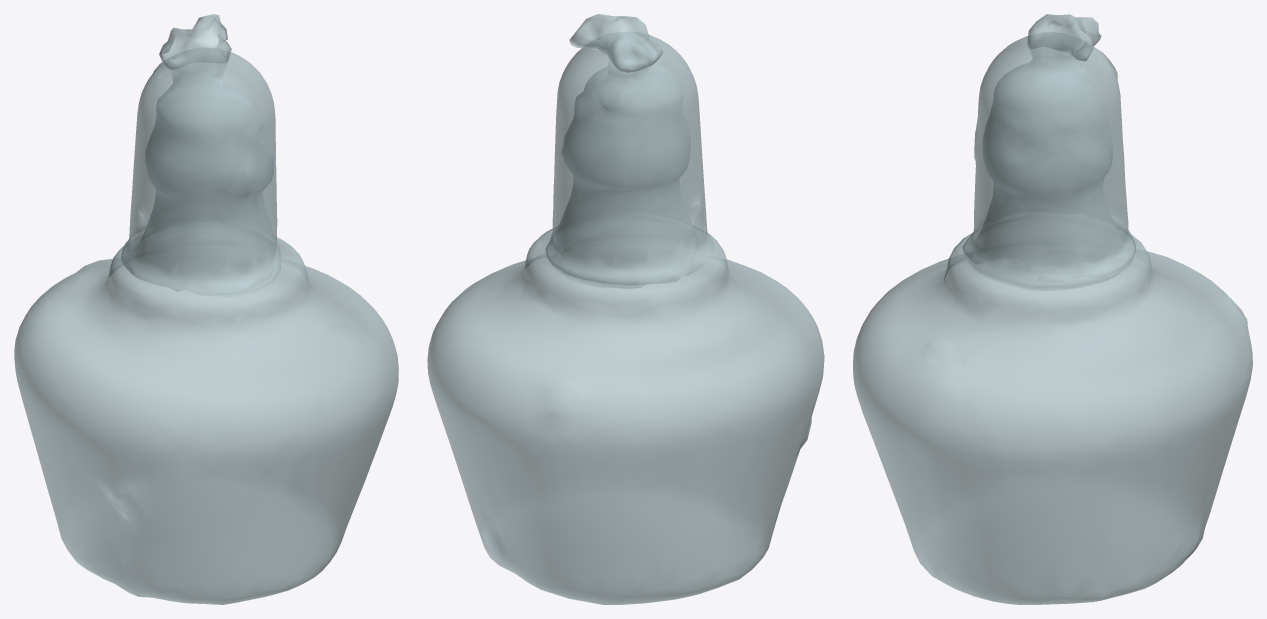
The picture shows the model from 3 angles, left to right: view 1: azimuth 30°, elevation 25°; view 2: azimuth 150°, elevation 25°; view 3: azimuth 270°, elevation 25°; orthographic projection. The views are drawn at different scales.
Parts seen in each view (by area): view 1: world; view 2: world; view 3: world.
Part boxes in pixels (x1,y1,x2,y2): world: [14, 14, 398, 604]; world: [427, 14, 824, 604]; world: [853, 14, 1252, 604].
Bounding box in the file's own units: 0.0767 × 0.1189 × 0.0774.
